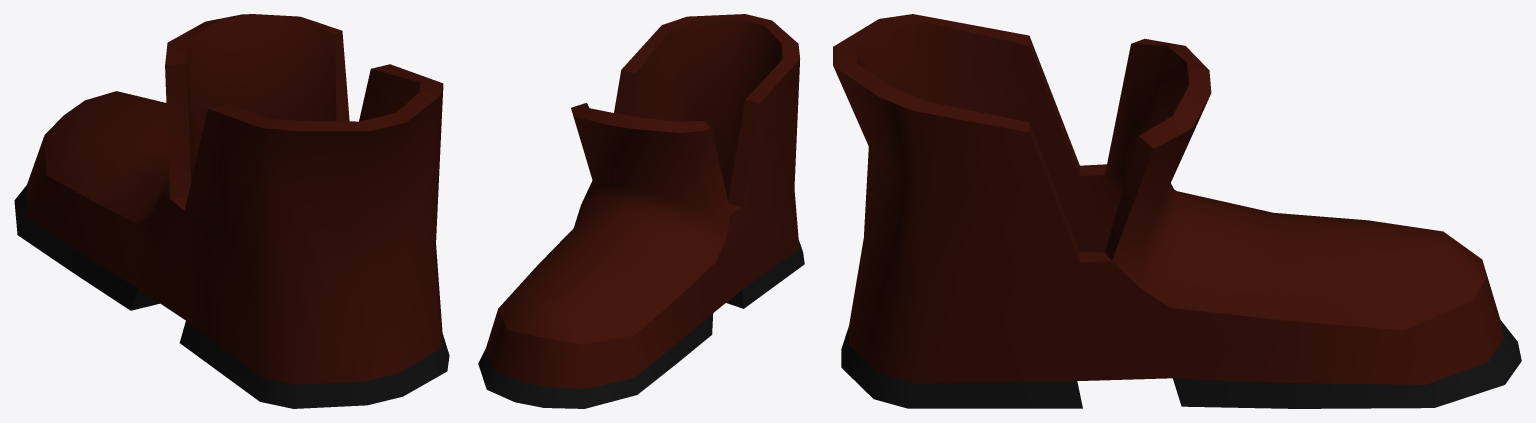
Rendered from boot.FBX.
3 renders of one model, left to right at view 1: azimuth 30°, elevation 25°; view 2: azimuth 150°, elevation 25°; view 3: azimuth 270°, elevation 25°, orthographic. The views are drawn at different scales.
Parts seen in each view (by area): view 1: Box001; view 2: Box001; view 3: Box001.
Part boxes in pixels (left/top/right/bottom): Box001: left=14, top=14, right=449, bottom=408; Box001: left=478, top=14, right=804, bottom=408; Box001: left=833, top=14, right=1521, bottom=408.
Size of the model in its own units: 10.61 by 13.69 by 28.13.
